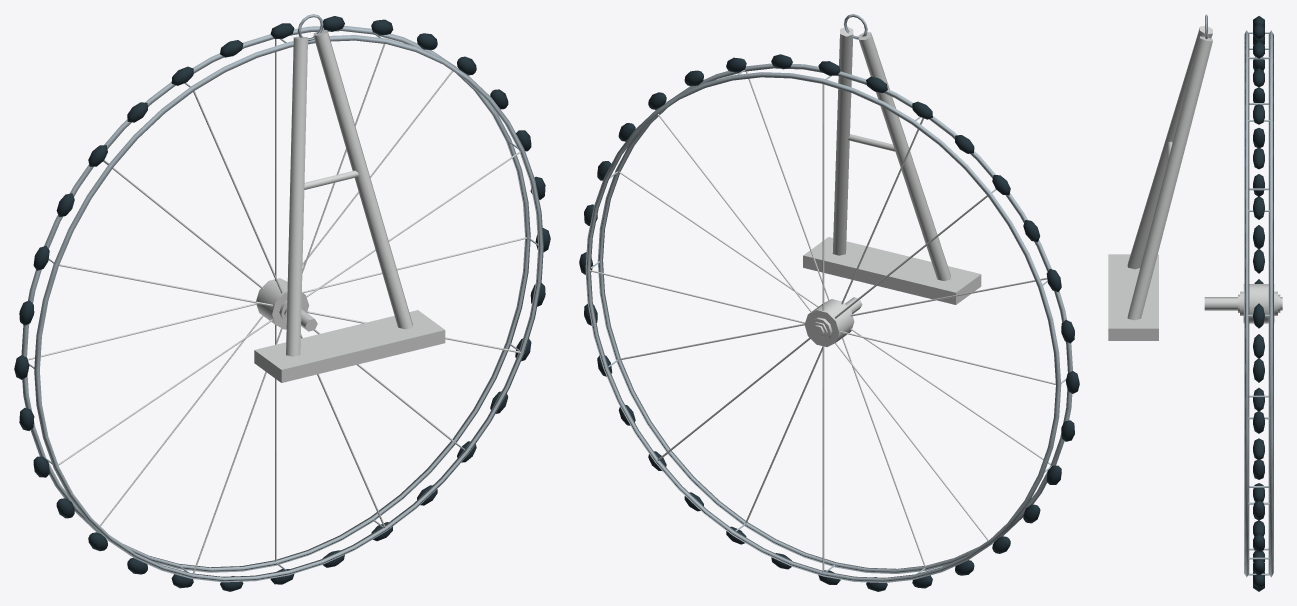
The model's file is london-eye.lod1.glb.
3 views of the same model, side by side, from view 1: azimuth 30°, elevation 25°; view 2: azimuth 150°, elevation 25°; view 3: azimuth 270°, elevation 25° (orthographic). The views are drawn at different scales.
Visible parts, largest first — view 1: eye-rim, eye-frame-struts, eye-spokes, eye-pods, eye-frame-footing; view 2: eye-rim, eye-spokes, eye-pods, eye-frame-struts, eye-frame-footing; view 3: eye-rim, eye-frame-struts, eye-pods, eye-frame-footing, eye-spokes.
Part boxes in pixels (bbox=[...]): eye-rim: bbox=[21, 25, 543, 582]; eye-frame-struts: bbox=[286, 30, 412, 356]; eye-spokes: bbox=[27, 39, 526, 574]; eye-pods: bbox=[14, 16, 550, 591]; eye-frame-footing: bbox=[254, 310, 445, 382]; eye-rim: bbox=[585, 63, 1072, 582]; eye-spokes: bbox=[589, 71, 1055, 572]; eye-pods: bbox=[579, 54, 1079, 591]; eye-frame-struts: bbox=[832, 27, 950, 280]; eye-frame-footing: bbox=[803, 237, 981, 304]; eye-rim: bbox=[1244, 30, 1273, 577]; eye-frame-struts: bbox=[1127, 26, 1212, 320]; eye-pods: bbox=[1253, 16, 1264, 591]; eye-frame-footing: bbox=[1108, 254, 1158, 340]; eye-spokes: bbox=[1204, 284, 1282, 323].
Size of the model in its own units: 34.06 by 35.83 by 10.3.
